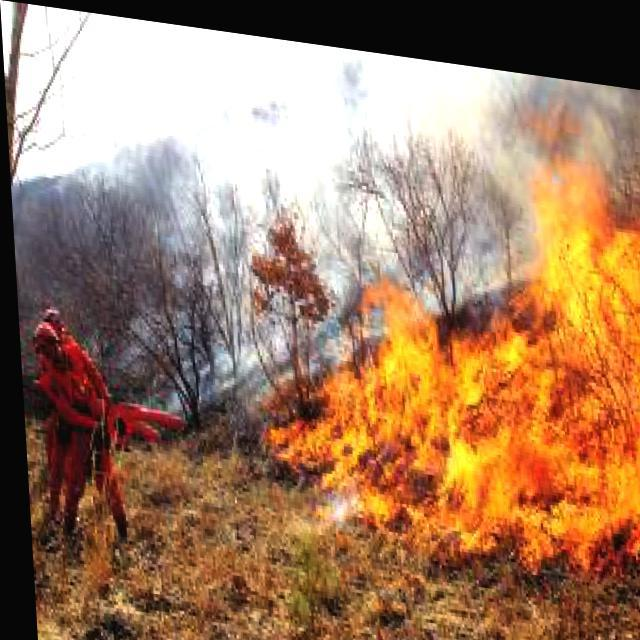Fire: (255, 110, 639, 552)
